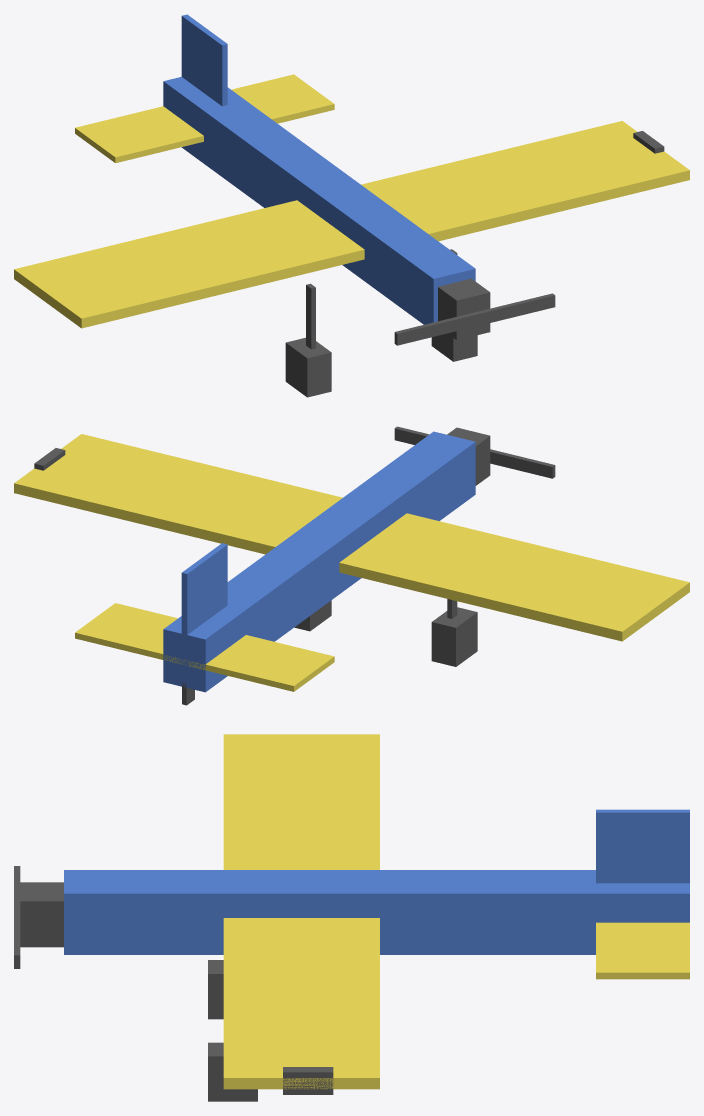
3 renders of one model, top to bottom at view 1: azimuth 30°, elevation 25°; view 2: azimuth 150°, elevation 25°; view 3: azimuth 270°, elevation 25°, orthographic. The views are drawn at different scales.
Parts seen in each view (by area): view 1: stunter; view 2: stunter; view 3: stunter.
Boxes of the visible parts, x1=… form: stunter: x1=14, y1=14, x2=689, y2=397; stunter: x1=14, y1=426, x2=689, y2=705; stunter: x1=14, y1=734, x2=689, y2=1101.
Bounding box in the file's own units: 1.3 × 0.4275 × 1.08.
